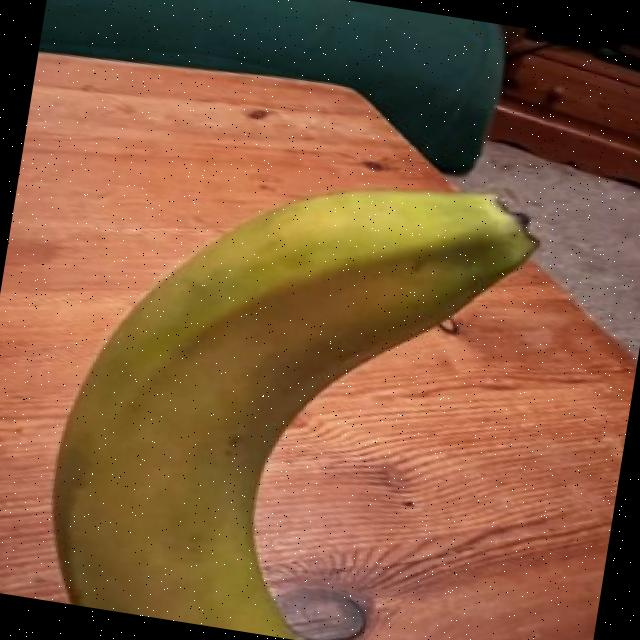Unripe: (0, 102, 613, 640)
